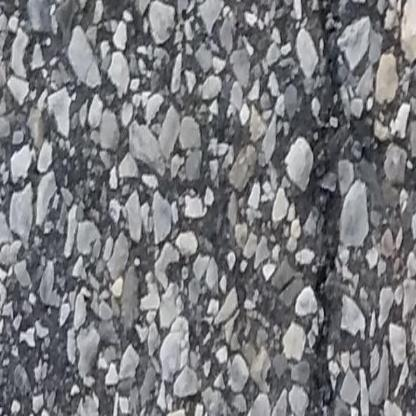Cracks: (299, 0, 355, 416)
